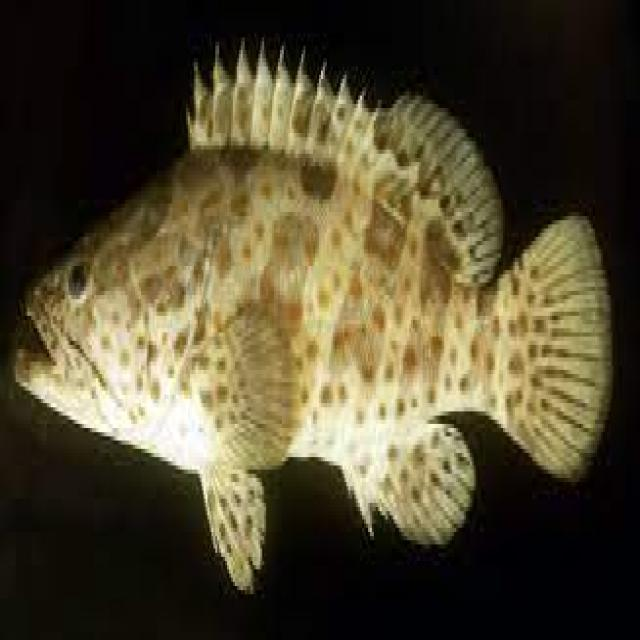grouper: (16, 38, 619, 573)
